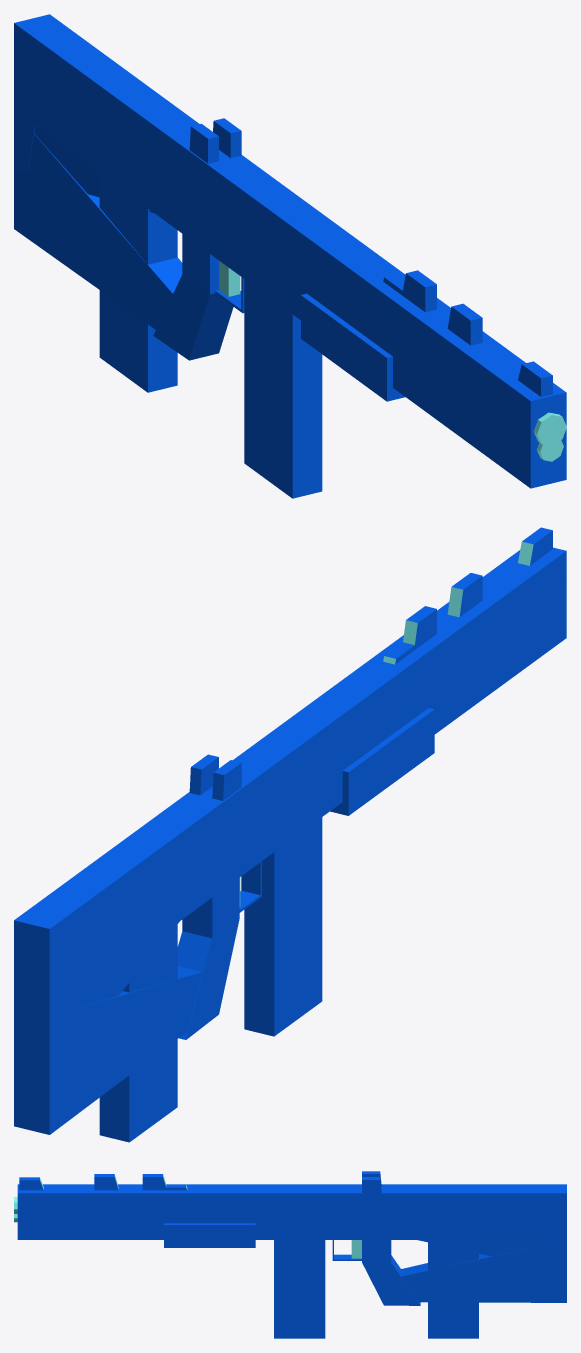
File: Guns.fbx
3 views of the same model, one above another, from view 1: azimuth 30°, elevation 25°; view 2: azimuth 150°, elevation 25°; view 3: azimuth 270°, elevation 25° (orthographic). The views are drawn at different scales.
Visible parts, largest first — view 1: ReceiverRifleBullpup, ReceiverShot, ReceiverRifle, ButtStockLow, ReceiverSubMachine, PistolGrip, ReceiverPistol, ButtStock; view 2: ReceiverRifleBullpup, ReceiverShot, ReceiverRifle, ButtStockLow, PistolGrip, ButtStock, ReceiverPistol, ReceiverSubMachine; view 3: ReceiverRifle, ReceiverRifleBullpup, ReceiverShot, ButtStockLow, ReceiverPistol, PistolGrip, ReceiverSubMachine, ButtStock.
Part boxes in pixels (x1,y1,x2,y2): ReceiverRifleBullpup: [14, 14, 448, 412]; ReceiverShot: [172, 135, 566, 488]; ReceiverRifle: [172, 118, 566, 498]; ButtStockLow: [14, 133, 182, 329]; ReceiverSubMachine: [172, 149, 404, 462]; PistolGrip: [153, 234, 244, 360]; ReceiverPistol: [172, 176, 296, 316]; ButtStock: [34, 126, 153, 212]; ReceiverRifleBullpup: [14, 606, 463, 1142]; ReceiverShot: [173, 527, 566, 884]; ReceiverRifle: [173, 547, 566, 1036]; ButtStockLow: [14, 966, 202, 1134]; PistolGrip: [177, 861, 261, 1039]; ButtStock: [14, 921, 179, 1078]; ReceiverPistol: [208, 805, 290, 899]; ReceiverSubMachine: [209, 642, 414, 1035]; ReceiverRifle: [14, 1171, 398, 1338]; ReceiverRifleBullpup: [127, 1174, 566, 1338]; ReceiverShot: [14, 1177, 398, 1247]; ButtStockLow: [401, 1244, 566, 1302]; ReceiverPistol: [266, 1213, 398, 1239]; PistolGrip: [332, 1240, 420, 1305]; ReceiverSubMachine: [164, 1184, 397, 1338]; ButtStock: [418, 1240, 545, 1256].
Bounding box in the file's own units: 0.04 × 0.24 × 0.755.
